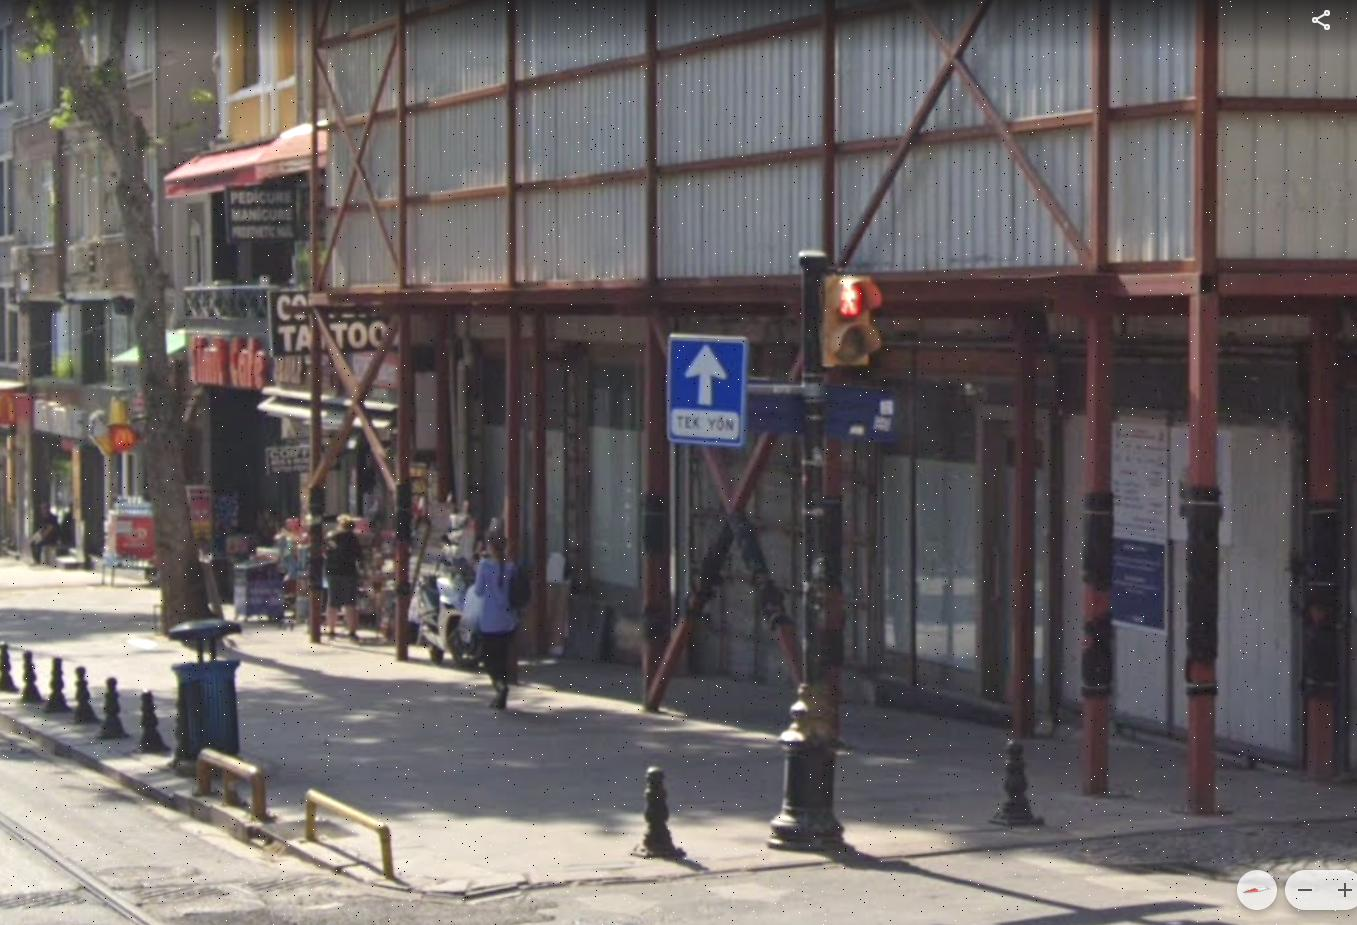forward: (671, 339, 740, 412)
